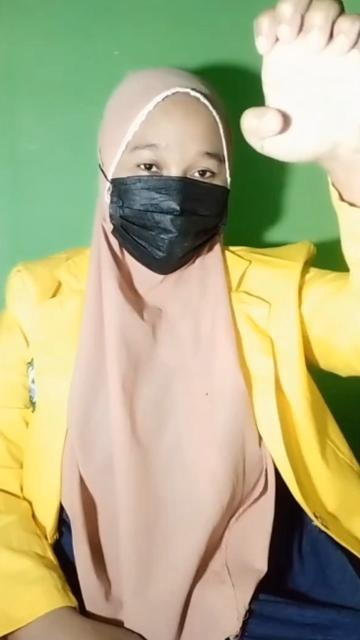E: (235, 4, 360, 175)
